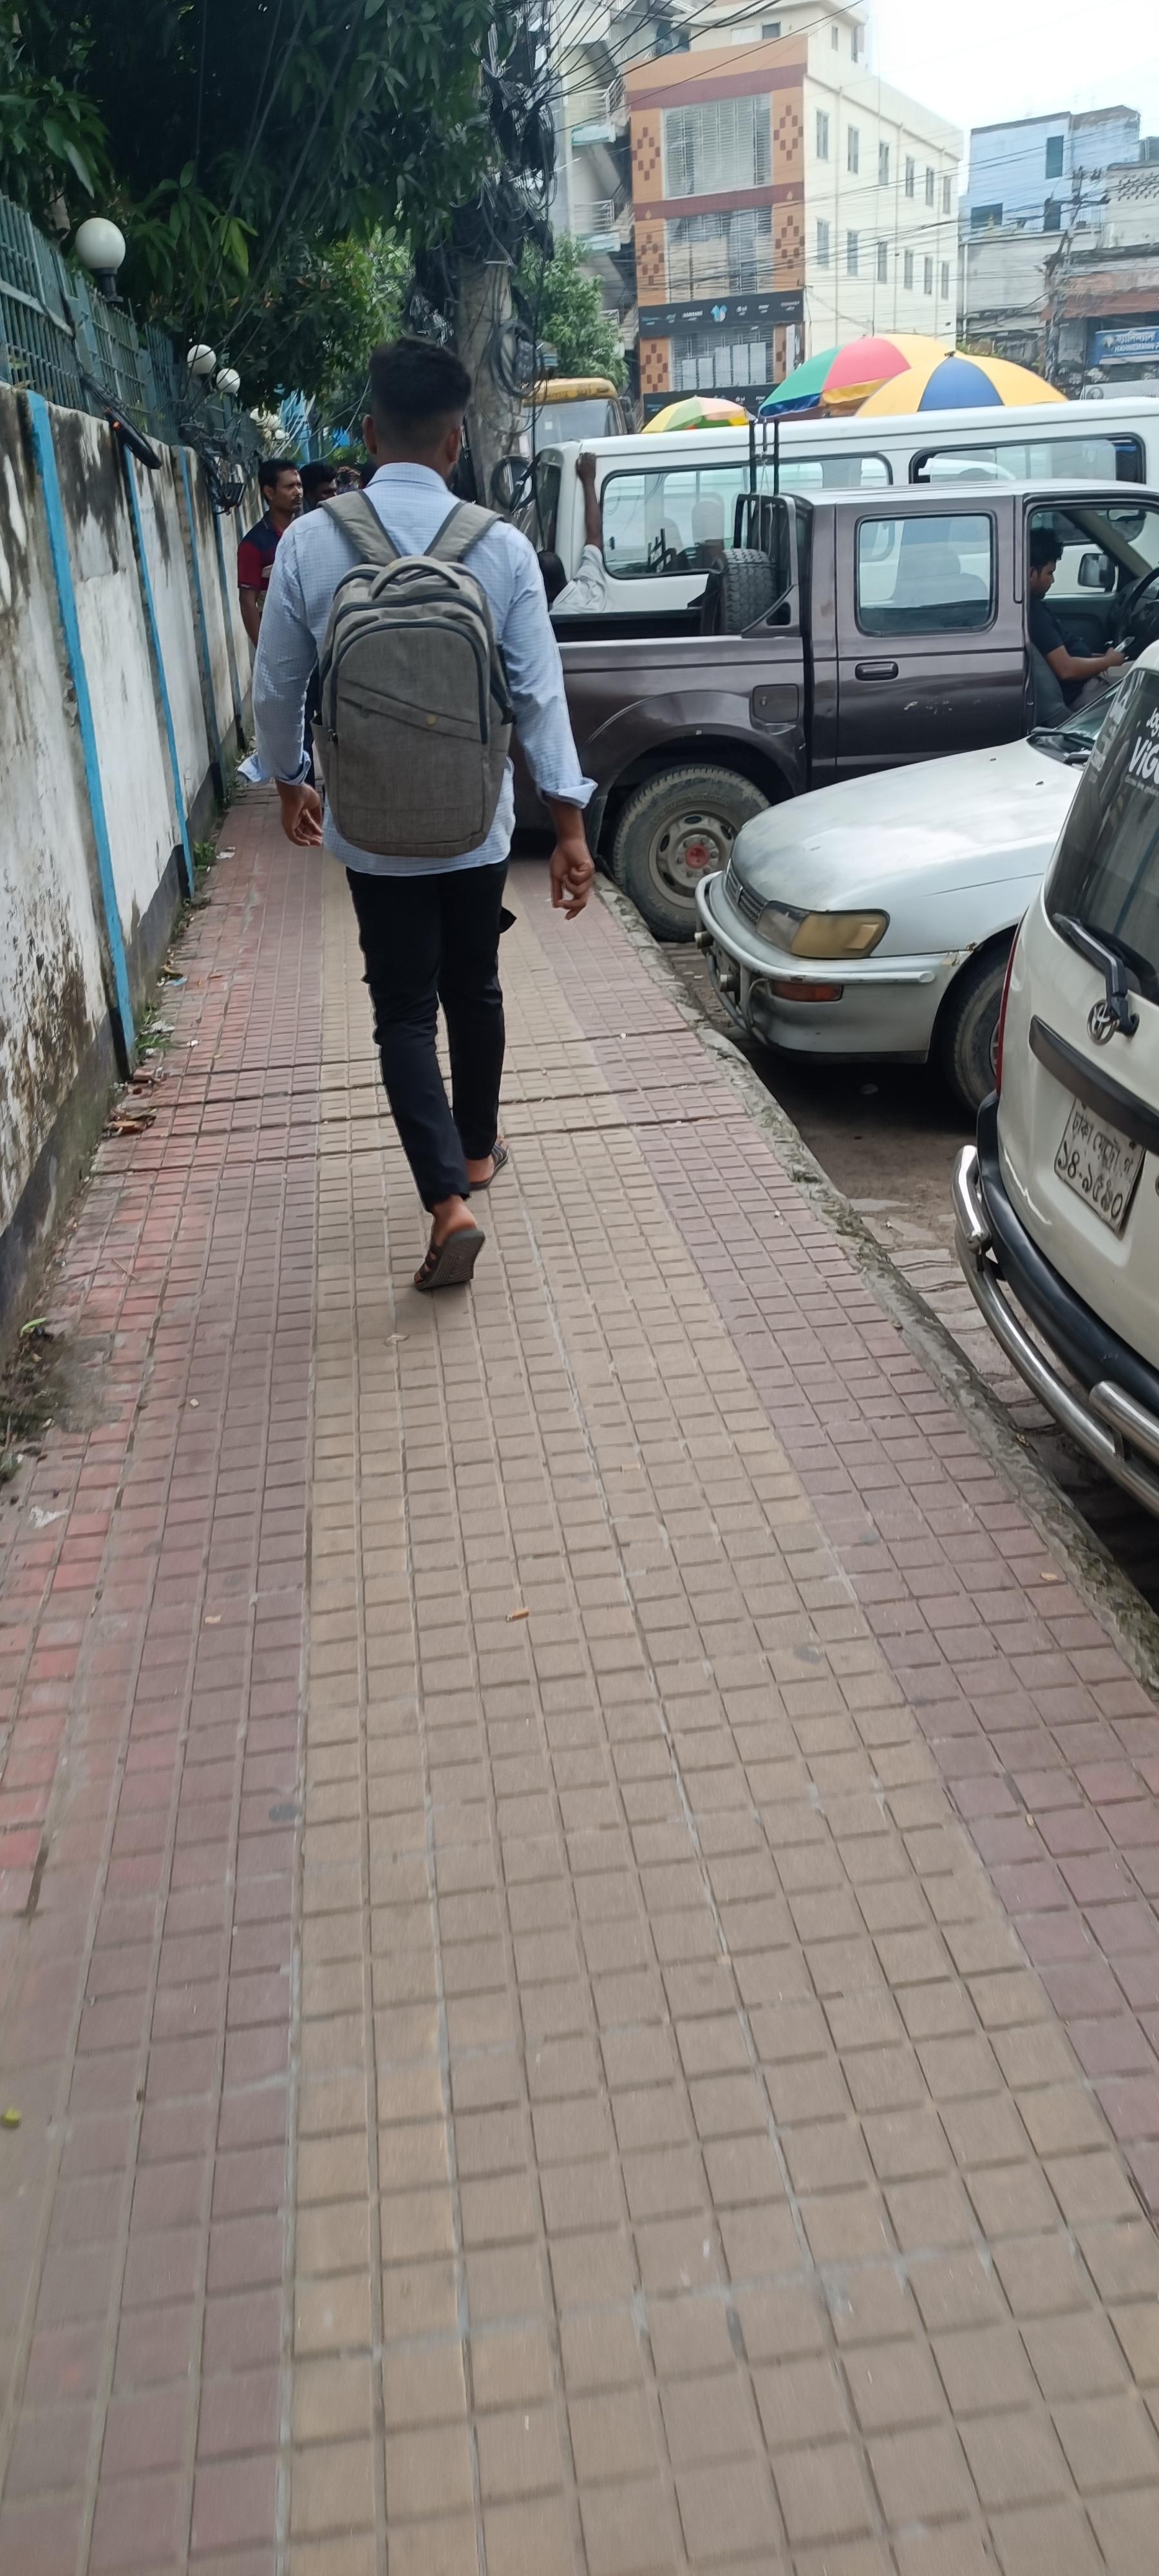Garbage-bin: (251, 335, 601, 1290), (1026, 529, 1128, 729)
Pothole: (3, 762, 1156, 2571)
Traffic-cone: (524, 396, 1159, 636)
